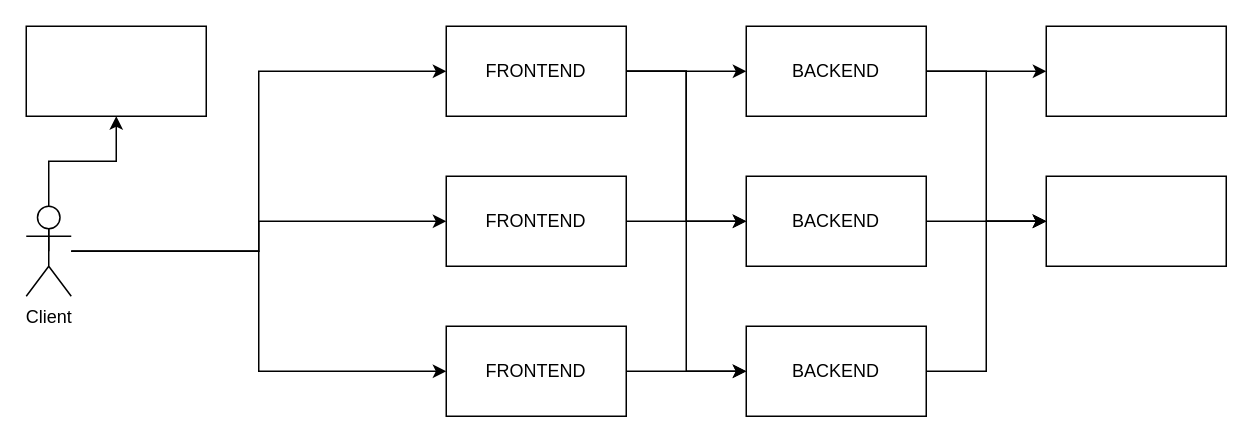
Image size: 1253x443. Some labels were removed from this diagram. The centre of each missing label's shape, as x and y in pixels:
DNS: the point at 115,70
PostgreSQL: the point at 1135,70
Redis: the point at 1135,220
